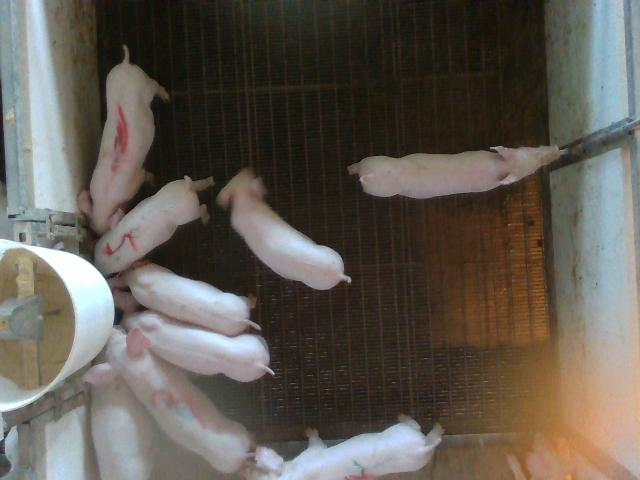pig-1: (78, 46, 169, 234)
pig-3: (84, 328, 251, 472)
pig-5: (94, 176, 213, 276)
